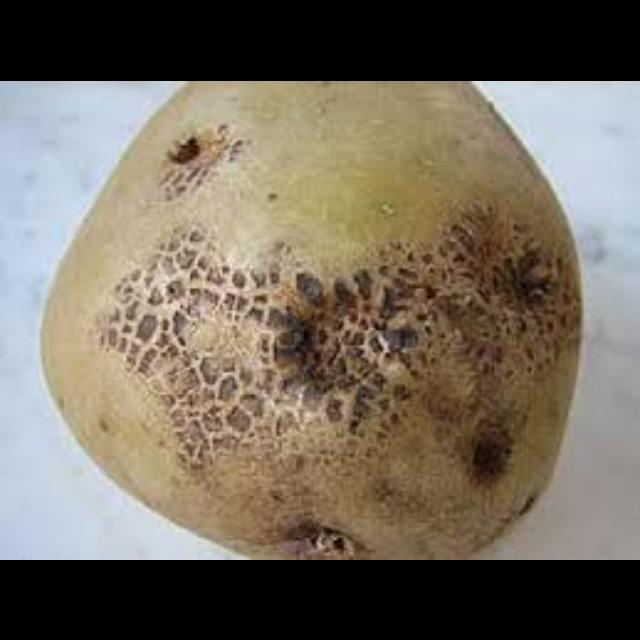Damaged potato: (27, 80, 586, 556)
